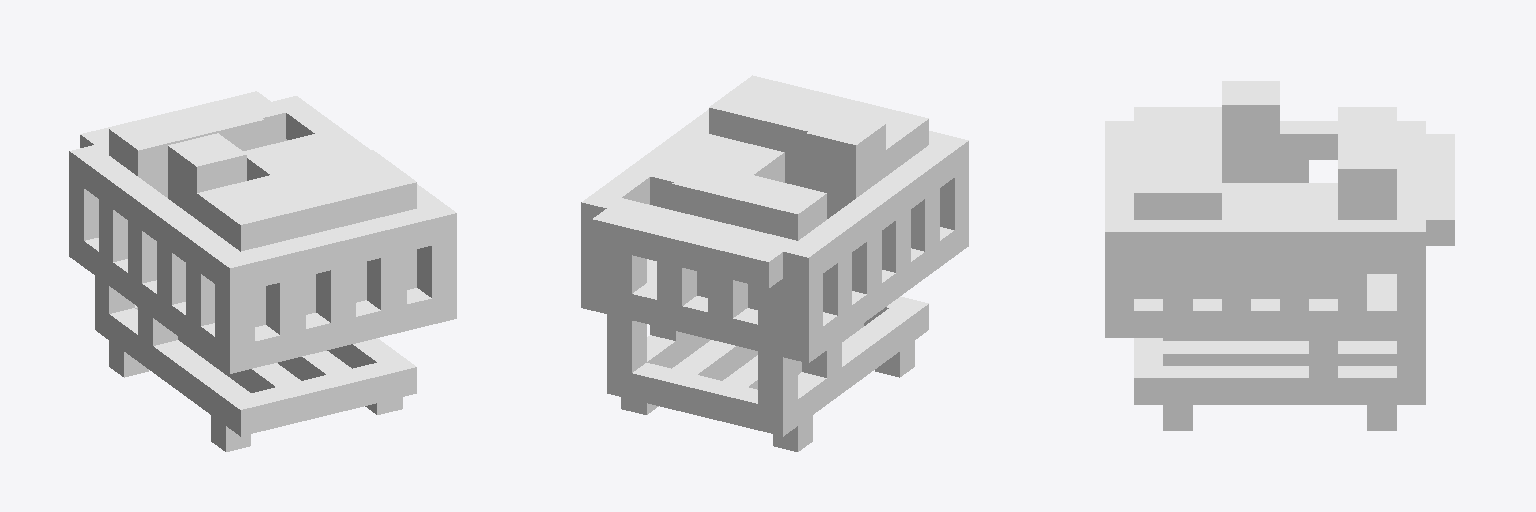
The model's file is obj_cart1b.obj.
3 views of the same model, side by side, from view 1: azimuth 30°, elevation 25°; view 2: azimuth 150°, elevation 25°; view 3: azimuth 270°, elevation 25° (orthographic).
Bounding box in the file's own units: 9 × 10 × 12.